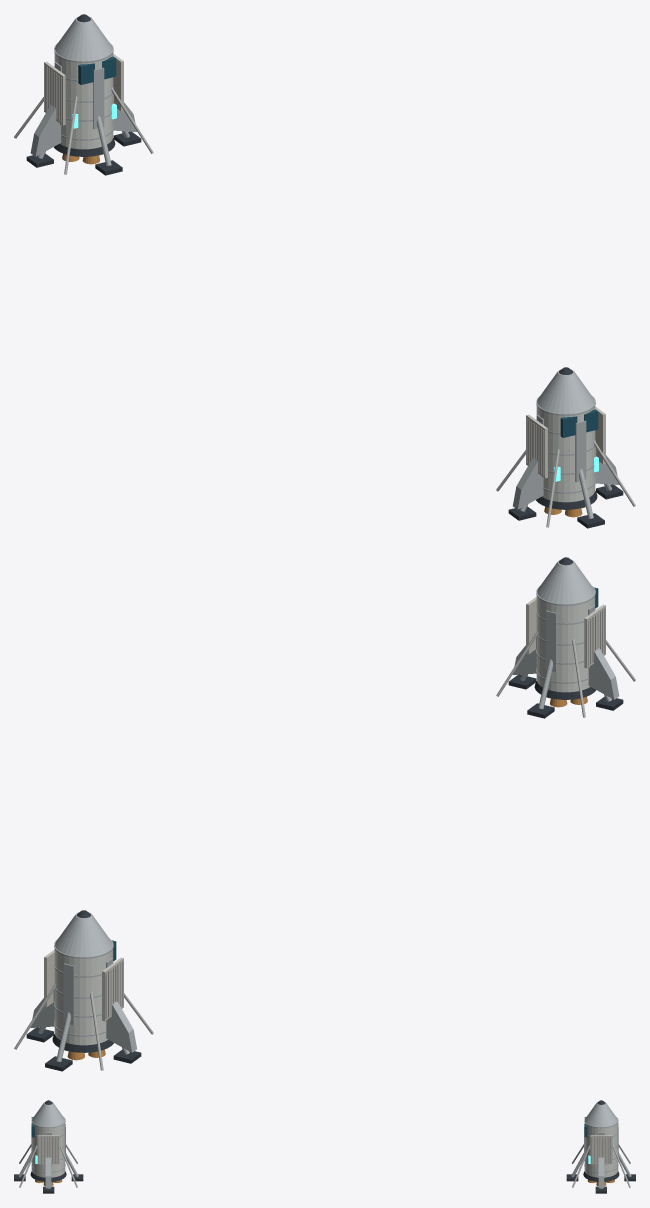
The model's file is landers-detailed.glb.
3 views of the same model, one above another, from view 1: azimuth 30°, elevation 25°; view 2: azimuth 150°, elevation 25°; view 3: azimuth 270°, elevation 25° (orthographic). The views are drawn at different scales.
Parts seen in each view (by area): view 1: lander_detail_Main pressure hull, lander_detail_Main pressure hull.001, lander_detail_Tapered nose.001, lander_detail_Tapered nose, lander_detail_Stabilizer fin, lander_detail_Stabilizer fin.002, lander_detail_Lander radiator.002, lander_detail_Lander radiator; view 2: lander_detail_Main pressure hull.001, lander_detail_Main pressure hull, lander_detail_Tapered nose, lander_detail_Tapered nose.001, lander_detail_Stabilizer fin.002, lander_detail_Stabilizer fin, lander_detail_Lander radiator, lander_detail_Lander radiator.002; view 3: lander_detail_Main pressure hull, lander_detail_Main pressure hull.001, lander_detail_Lander radiator.001, lander_detail_Lander radiator.003, lander_detail_Tapered nose, lander_detail_Tapered nose.001, lander_detail_Stabilizer fin.001, lander_detail_Stabilizer fin.003, lander_detail_Engine skirt, lander_detail_Engine skirt.001.
Boxes of the visible parts, bbox=[...] form: lander_detail_Main pressure hull: bbox=[54, 52, 113, 149]; lander_detail_Main pressure hull.001: bbox=[536, 406, 595, 502]; lander_detail_Tapered nose.001: bbox=[537, 369, 594, 413]; lander_detail_Tapered nose: bbox=[55, 16, 112, 60]; lander_detail_Stabilizer fin: bbox=[30, 104, 61, 156]; lander_detail_Stabilizer fin.002: bbox=[513, 457, 543, 509]; lander_detail_Lander radiator.002: bbox=[526, 414, 547, 478]; lander_detail_Lander radiator: bbox=[44, 61, 65, 125]; lander_detail_Main pressure hull.001: bbox=[536, 595, 595, 692]; lander_detail_Main pressure hull: bbox=[54, 949, 113, 1045]; lander_detail_Tapered nose: bbox=[55, 912, 112, 956]; lander_detail_Tapered nose.001: bbox=[537, 559, 594, 603]; lander_detail_Stabilizer fin.002: bbox=[588, 647, 619, 699]; lander_detail_Stabilizer fin: bbox=[106, 1000, 136, 1052]; lander_detail_Lander radiator: bbox=[102, 957, 123, 1021]; lander_detail_Lander radiator.002: bbox=[584, 604, 605, 668]; lander_detail_Main pressure hull: bbox=[584, 1122, 618, 1177]; lander_detail_Main pressure hull.001: bbox=[31, 1122, 65, 1177]; lander_detail_Lander radiator.001: bbox=[590, 1135, 612, 1164]; lander_detail_Lander radiator.003: bbox=[37, 1135, 59, 1164]; lander_detail_Tapered nose: bbox=[585, 1101, 617, 1127]; lander_detail_Tapered nose.001: bbox=[32, 1101, 64, 1127]; lander_detail_Stabilizer fin.001: bbox=[598, 1157, 604, 1188]; lander_detail_Stabilizer fin.003: bbox=[45, 1157, 51, 1188]; lander_detail_Engine skirt: bbox=[583, 1171, 619, 1181]; lander_detail_Engine skirt.001: bbox=[30, 1171, 66, 1181].
Size of the model in its own units: 2.88 by 3.69 by 25.88.
